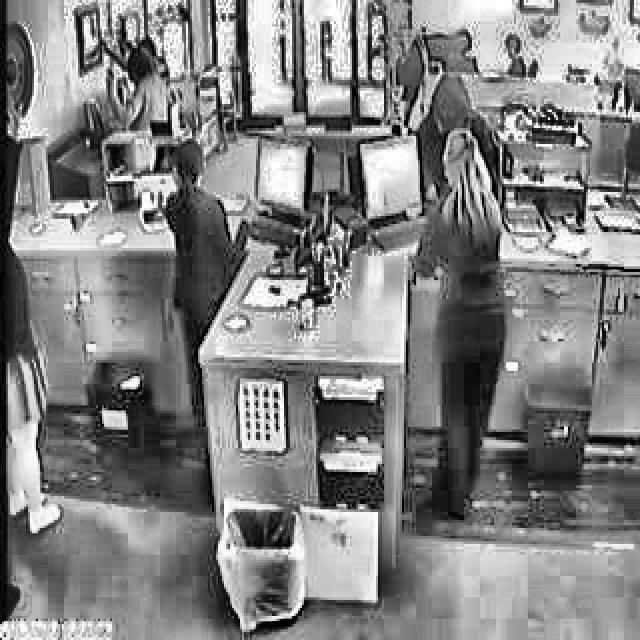robbery: (370, 24, 506, 209), (160, 136, 264, 272), (95, 20, 185, 136)
